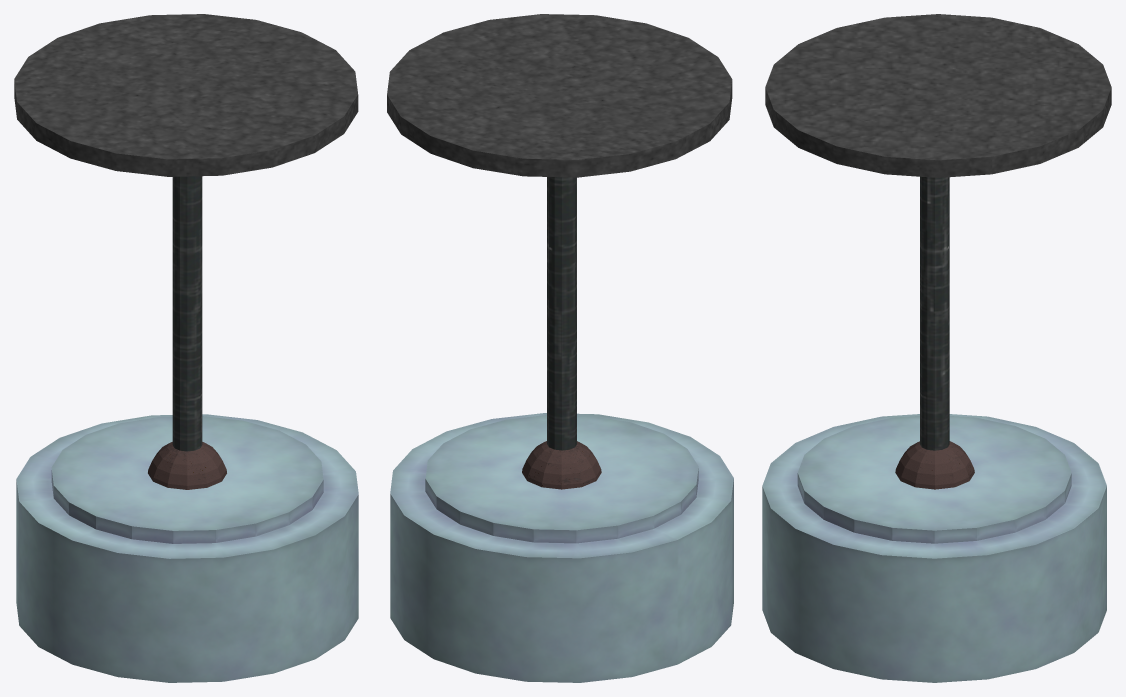
Rendered from ass_13_lights(ceiling).fbx.
The picture shows the model from 3 angles, left to right: view 1: azimuth 30°, elevation 25°; view 2: azimuth 150°, elevation 25°; view 3: azimuth 270°, elevation 25°; orthographic projection.
Visible parts, largest first — view 1: polySurface2; view 2: polySurface2; view 3: polySurface2.
Boxes of the visible parts, box(x1,y1,x2,y2) form: polySurface2: box(14, 14, 358, 682); polySurface2: box(387, 14, 733, 682); polySurface2: box(762, 14, 1111, 682).
Bounding box in the file's own units: 278 × 463 × 280.
5 materials, 5 textured.
